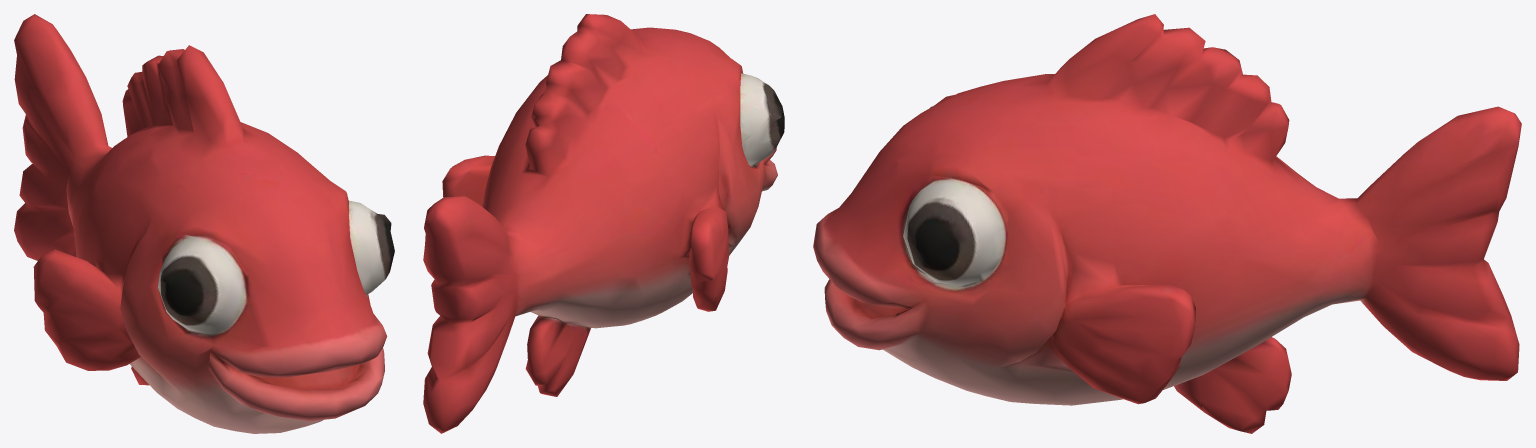
Rendered from fish-red-snapper.glb.
3 renders of one model, left to right at view 1: azimuth 30°, elevation 25°; view 2: azimuth 150°, elevation 25°; view 3: azimuth 270°, elevation 25°, orthographic. The views are drawn at different scales.
Parts seen in each view (by area): view 1: tripo_node_d2b52d7b-c56c-4115-b08e-356669f66b9d; view 2: tripo_node_d2b52d7b-c56c-4115-b08e-356669f66b9d; view 3: tripo_node_d2b52d7b-c56c-4115-b08e-356669f66b9d.
Boxes of the visible parts, x1,y1,x2,y2 form: tripo_node_d2b52d7b-c56c-4115-b08e-356669f66b9d: [14, 14, 394, 433]; tripo_node_d2b52d7b-c56c-4115-b08e-356669f66b9d: [423, 14, 784, 433]; tripo_node_d2b52d7b-c56c-4115-b08e-356669f66b9d: [813, 14, 1521, 433].
Bounding box in the file's own units: 0.5192 × 0.6469 × 1.
Materials: 1 (1 with a texture image).
